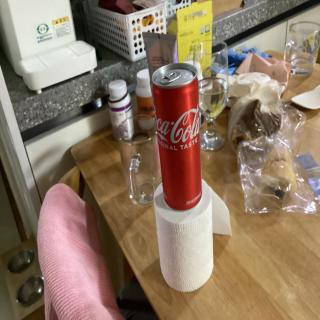cocacola: (150, 58, 205, 214)
